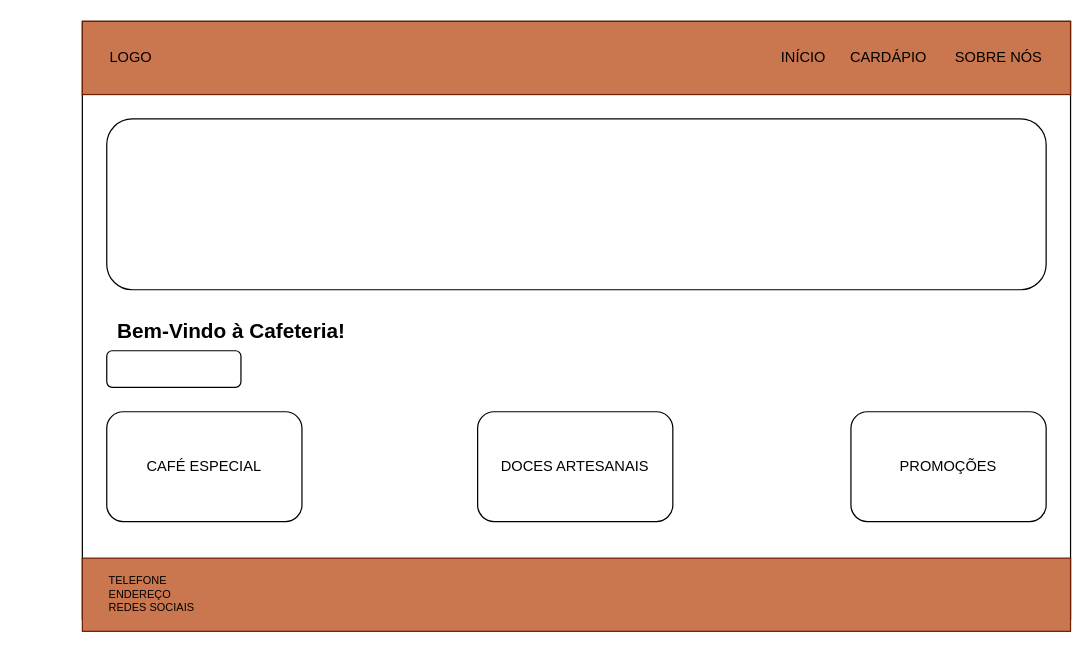
Some shapes in this 1092 by 653 pixel diagram are drawn without their labels. The shapes that lost their labels are listed below. From the top down, each one's box as (x1, y1, x2, y2) in pixels, then its label:
(106, 118, 1046, 290): IMAGEM DE DESTAQUE
(106, 350, 241, 387): VER CARDÁPIO
